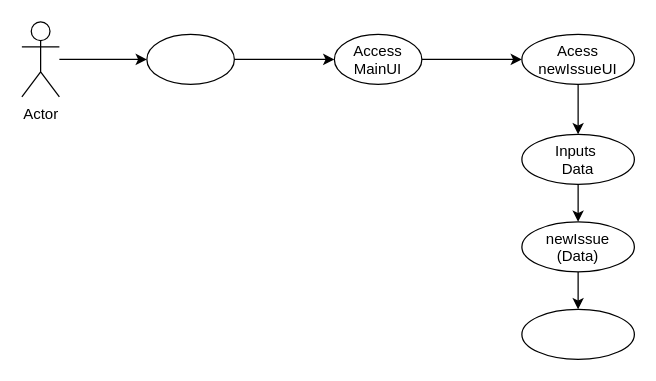
Image size: 656x381. Some labels were removed from this diagram. The box of each missing label's shape, as (x1, y1, x2, y2) in pixels:
Logins: (146, 33, 234, 84)
Refresh Table: (521, 308, 634, 359)
